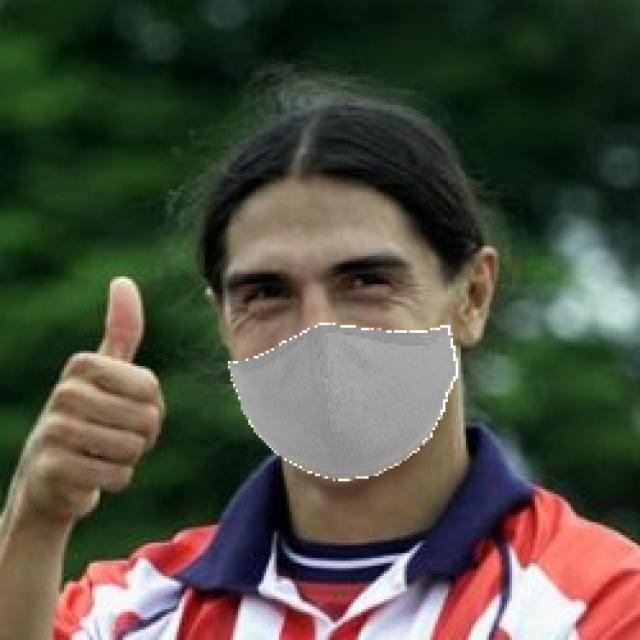cloth: (206, 156, 442, 480)
